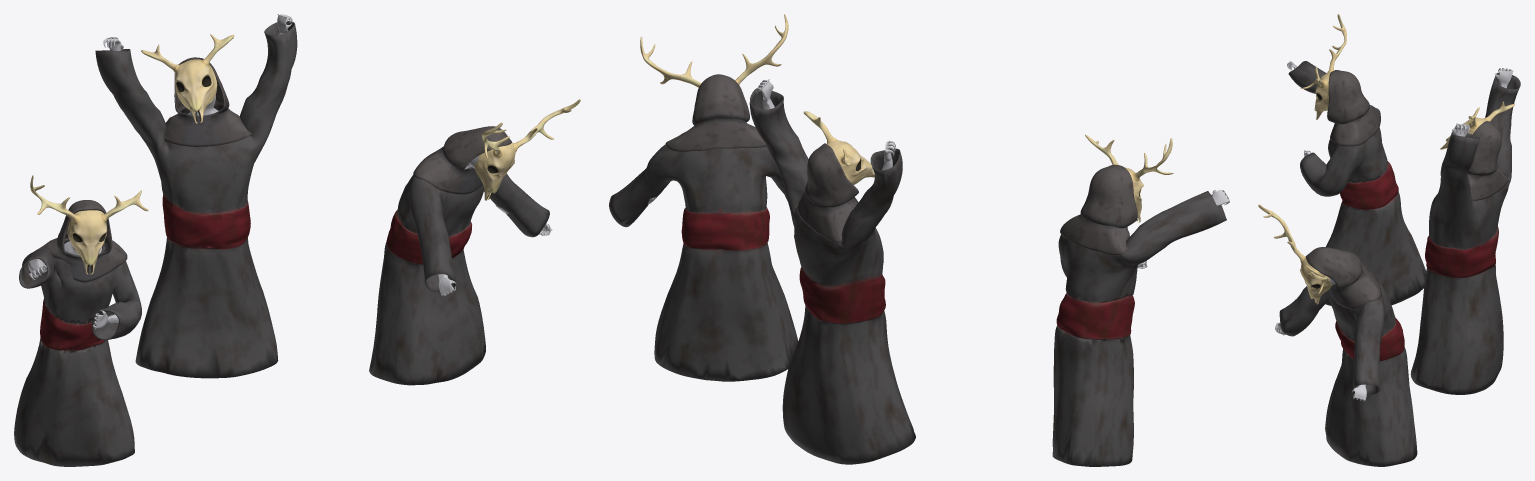
File: sectarios.glb
The picture shows the model from 3 angles, left to right: view 1: azimuth 30°, elevation 25°; view 2: azimuth 150°, elevation 25°; view 3: azimuth 270°, elevation 25°; orthographic projection. The views are drawn at different scales.
Visible parts, largest first — view 1: TunicaBase.002, TunicaBase, TunicaBase.001, Capucha, Capucha.002, MascaraCiervo.001, MascaraCiervo.002, Capucha.001, MascaraCiervo, Cuerpo.001, Cuerpo.002; view 2: TunicaBase.002, TunicaBase, TunicaBase.001, Capucha.001, Capucha, Capucha.002, MascaraCiervo.002, MascaraCiervo, MascaraCiervo.001; view 3: TunicaBase.002, TunicaBase, TunicaBase.001, Capucha.001, Capucha, Capucha.002, MascaraCiervo, MascaraCiervo.001, MascaraCiervo.002, Cuerpo.002, Cuerpo.
Boxes of the visible parts, bbox=[...] form: TunicaBase.002: bbox=[95, 21, 297, 378]; TunicaBase: bbox=[369, 167, 549, 385]; TunicaBase.001: bbox=[14, 238, 141, 466]; Capucha: bbox=[413, 126, 512, 194]; Capucha.002: bbox=[164, 57, 252, 146]; MascaraCiervo.001: bbox=[30, 175, 148, 274]; MascaraCiervo.002: bbox=[141, 34, 234, 123]; Capucha.001: bbox=[34, 200, 127, 282]; MascaraCiervo: bbox=[474, 99, 580, 200]; Cuerpo.001: bbox=[28, 241, 118, 329]; Cuerpo.002: bbox=[103, 14, 292, 115]; TunicaBase.002: bbox=[749, 87, 915, 464]; TunicaBase: bbox=[609, 144, 798, 381]; TunicaBase.001: bbox=[1052, 191, 1226, 466]; Capucha.001: bbox=[1060, 164, 1137, 254]; Capucha: bbox=[665, 74, 766, 151]; Capucha.002: bbox=[797, 143, 858, 242]; MascaraCiervo.002: bbox=[803, 111, 874, 184]; MascaraCiervo: bbox=[640, 14, 788, 87]; MascaraCiervo.001: bbox=[1085, 134, 1173, 222]; TunicaBase.002: bbox=[1410, 72, 1520, 394]; TunicaBase: bbox=[1279, 277, 1417, 466]; TunicaBase.001: bbox=[1288, 61, 1426, 305]; Capucha.001: bbox=[1327, 70, 1380, 146]; Capucha: bbox=[1305, 247, 1381, 308]; Capucha.002: bbox=[1467, 121, 1508, 200]; MascaraCiervo: bbox=[1258, 204, 1332, 304]; MascaraCiervo.001: bbox=[1300, 14, 1346, 119]; MascaraCiervo.002: bbox=[1440, 101, 1514, 149]; Cuerpo.002: bbox=[1452, 68, 1512, 136]; Cuerpo: bbox=[1275, 278, 1366, 401].
Bounding box in the file's own units: 4.16 × 2.35 × 1.96.
Materials: 4 (4 with a texture image).
